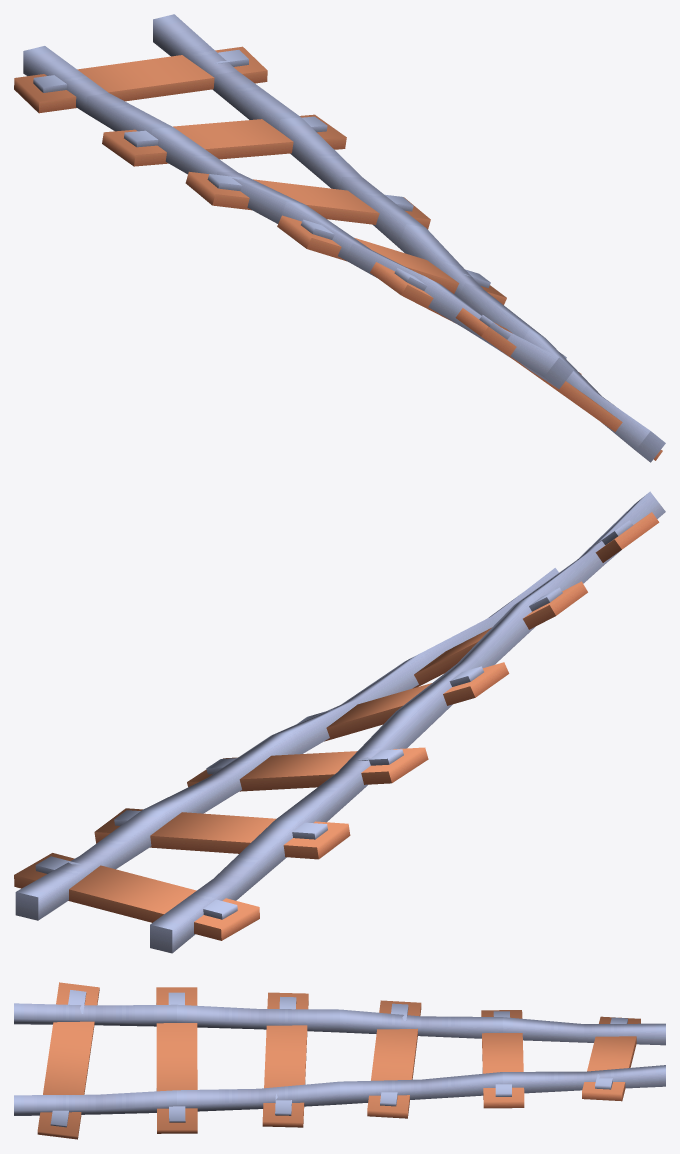
The model's file is kenney-train-railroad-damaged-straight-skew-left.glb.
The picture shows the model from 3 angles, top to bottom: view 1: azimuth 30°, elevation 25°; view 2: azimuth 150°, elevation 25°; view 3: azimuth 270°, elevation 25°; orthographic projection. The views are drawn at different scales.
Visible parts, largest first — view 1: railroad-damaged-straight-skew-left; view 2: railroad-damaged-straight-skew-left; view 3: railroad-damaged-straight-skew-left.
Part boxes in pixels (x1,y1,x2,y2): railroad-damaged-straight-skew-left: (14,14,665,462); railroad-damaged-straight-skew-left: (14,491,665,953); railroad-damaged-straight-skew-left: (14,982,665,1139).
Size of the model in its own units: 1.02 by 0.7266 by 4.
1 material, 1 textured.
